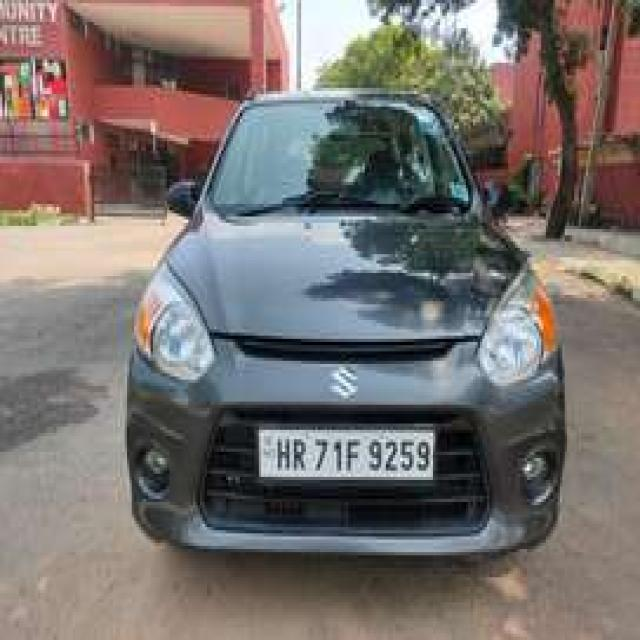Plate: (255, 428, 432, 478)
